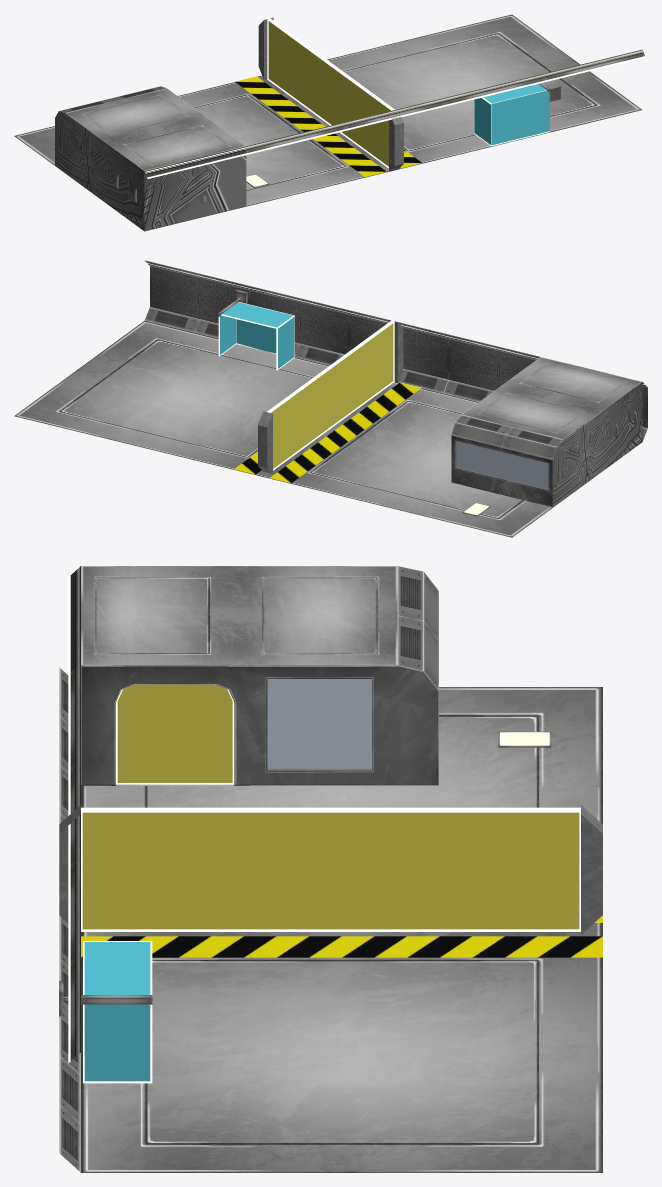
The model's file is WallRoom.fbx.
3 views of the same model, one above another, from view 1: azimuth 30°, elevation 25°; view 2: azimuth 150°, elevation 25°; view 3: azimuth 270°, elevation 25° (orthographic). The views are drawn at different scales.
Parts seen in each view (by area): view 1: Plane.009, Plane.027, Cube.010, Plane.010, Plane.026, Plane.024, Plane.025; view 2: Plane.009, Plane.027, Plane.010, Cube.010, Plane.026, Plane.024, Plane.028, Plane.025; view 3: Plane.009, Cube.010, Plane.027, Plane.029, Plane.010, Plane.023, Plane.030, Plane.026, Plane.025, Placa.011, Cube.011.
Part boxes in pixels (x1=…): Plane.009: x1=14, y1=14, x2=641, y2=231; Plane.027: x1=55, y1=86, x2=246, y2=230; Cube.010: x1=267, y1=18, x2=395, y2=168; Plane.010: x1=144, y1=49, x2=645, y2=178; Plane.026: x1=474, y1=84, x2=549, y2=146; Plane.024: x1=235, y1=76, x2=386, y2=177; Plane.025: x1=258, y1=17, x2=403, y2=171; Plane.009: x1=14, y1=320, x2=642, y2=537; Plane.027: x1=451, y1=357, x2=642, y2=507; Plane.010: x1=144, y1=260, x2=647, y2=441; Cube.010: x1=267, y1=320, x2=394, y2=470; Plane.026: x1=218, y1=302, x2=294, y2=370; Plane.024: x1=270, y1=382, x2=421, y2=483; Plane.028: x1=456, y1=441, x2=548, y2=489; Plane.025: x1=258, y1=320, x2=403, y2=473; Plane.009: x1=81, y1=687, x2=602, y2=1172; Cube.010: x1=81, y1=807, x2=580, y2=931; Plane.027: x1=81, y1=566, x2=438, y2=785; Plane.029: x1=116, y1=684, x2=234, y2=784; Plane.010: x1=59, y1=566, x2=80, y2=1172; Plane.023: x1=81, y1=936, x2=602, y2=957; Plane.030: x1=267, y1=679, x2=372, y2=768; Plane.026: x1=83, y1=941, x2=152, y2=1083; Plane.025: x1=59, y1=805, x2=602, y2=934; Placa.011: x1=498, y1=731, x2=551, y2=747; Cube.011: x1=59, y1=980, x2=152, y2=1016.
Bounding box in the file's own units: 4380 × 514 × 2063.
